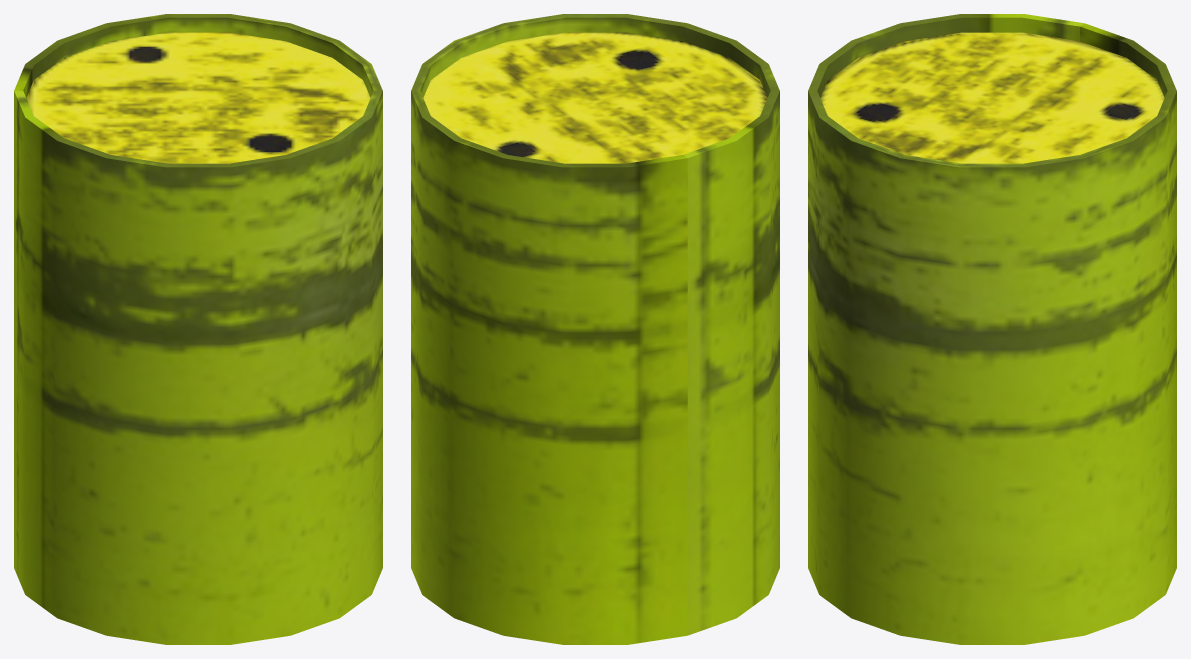
The model's file is metal_drum_2.fbx.
3 renders of one model, left to right at view 1: azimuth 30°, elevation 25°; view 2: azimuth 150°, elevation 25°; view 3: azimuth 270°, elevation 25°, orthographic.
Parts seen in each view (by area): view 1: Barrel1__4_3; view 2: Barrel1__4_3; view 3: Barrel1__4_3.
Part boxes in pixels (left/top/right/bottom): Barrel1__4_3: left=14, top=14, right=382, bottom=644; Barrel1__4_3: left=411, top=14, right=779, bottom=644; Barrel1__4_3: left=808, top=14, right=1176, bottom=644.
Size of the model in its own units: 58.27 by 84.53 by 59.17.
